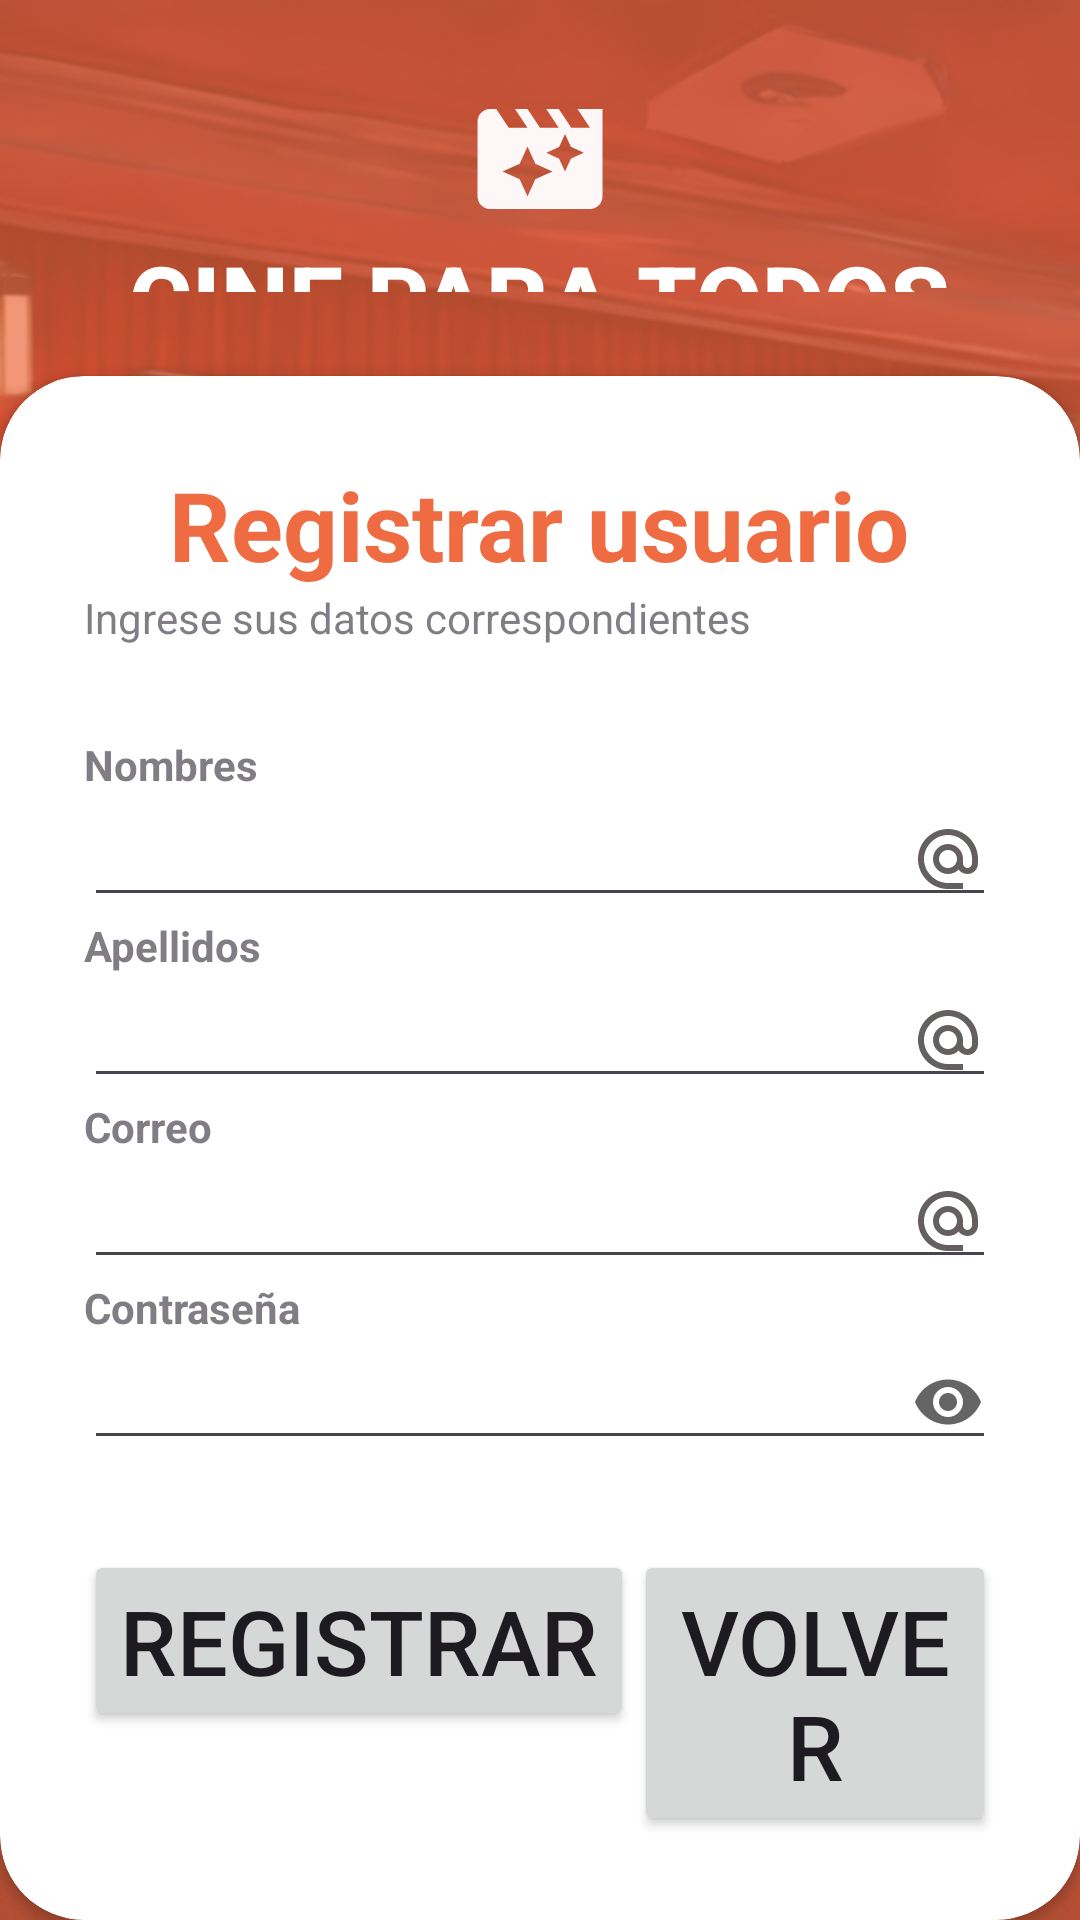

Screen size 1080px x 1920px. Icon name, then its box in pixels as box(x1, y1, x2, y2):
film: box(477, 109, 603, 209)
